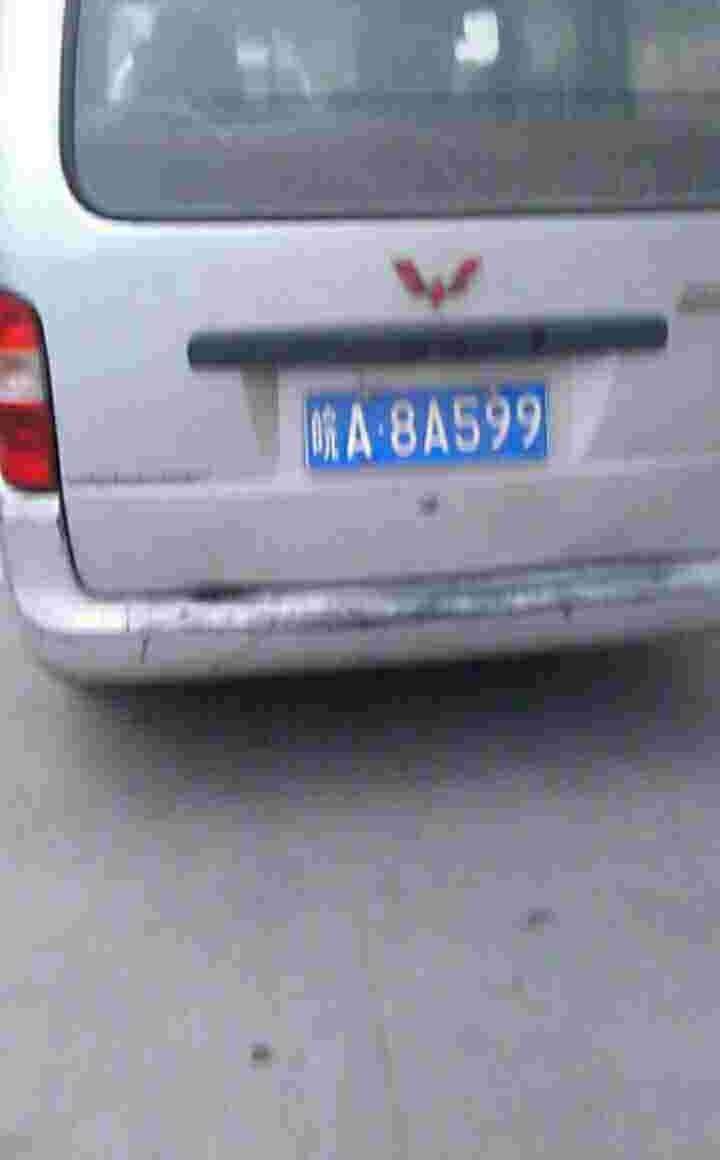license_plate: (314, 384, 537, 472)
